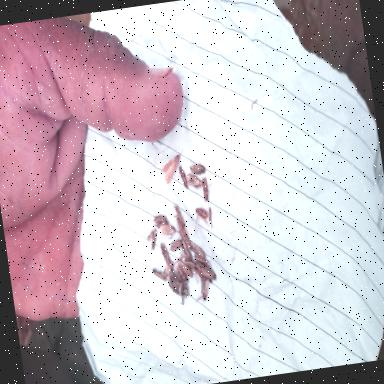pbw: (191, 204, 212, 233), (175, 220, 193, 252), (194, 258, 216, 284), (159, 241, 173, 277), (192, 276, 210, 302), (144, 227, 159, 252), (176, 258, 193, 279), (190, 241, 206, 263), (179, 237, 193, 262), (157, 222, 176, 240), (172, 202, 185, 227), (185, 171, 203, 189), (176, 162, 188, 189), (199, 174, 211, 200), (149, 213, 168, 229), (182, 256, 198, 274), (150, 264, 166, 282), (160, 259, 175, 278), (174, 264, 188, 284), (188, 161, 206, 176), (194, 252, 210, 268), (166, 238, 184, 252), (175, 215, 186, 236)
